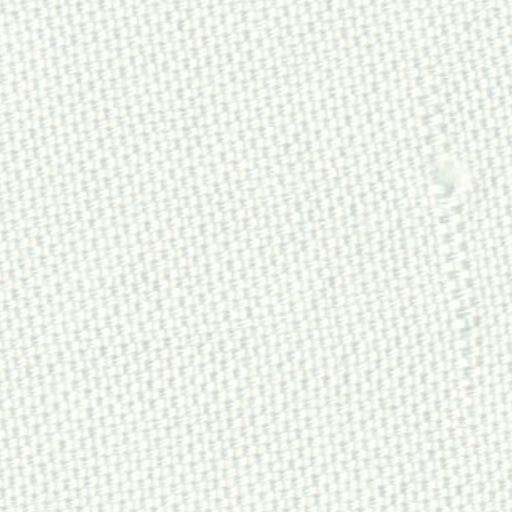PoDong: (406, 134, 486, 210)
